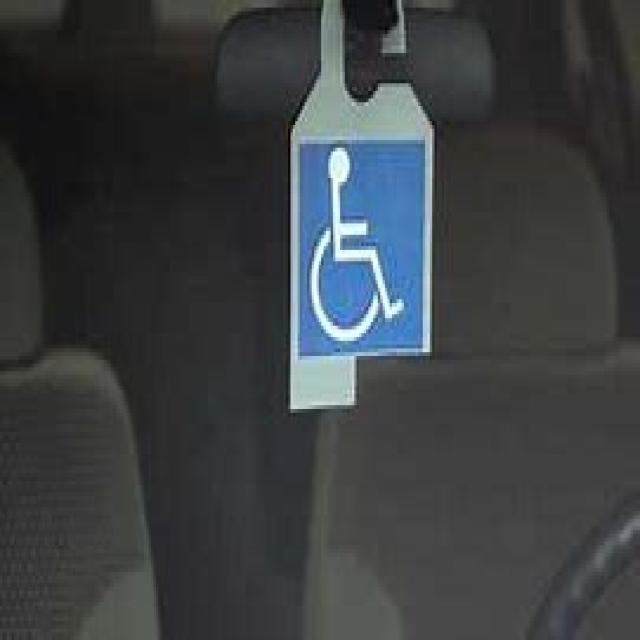car-handicap-placard: (307, 146, 408, 346)
